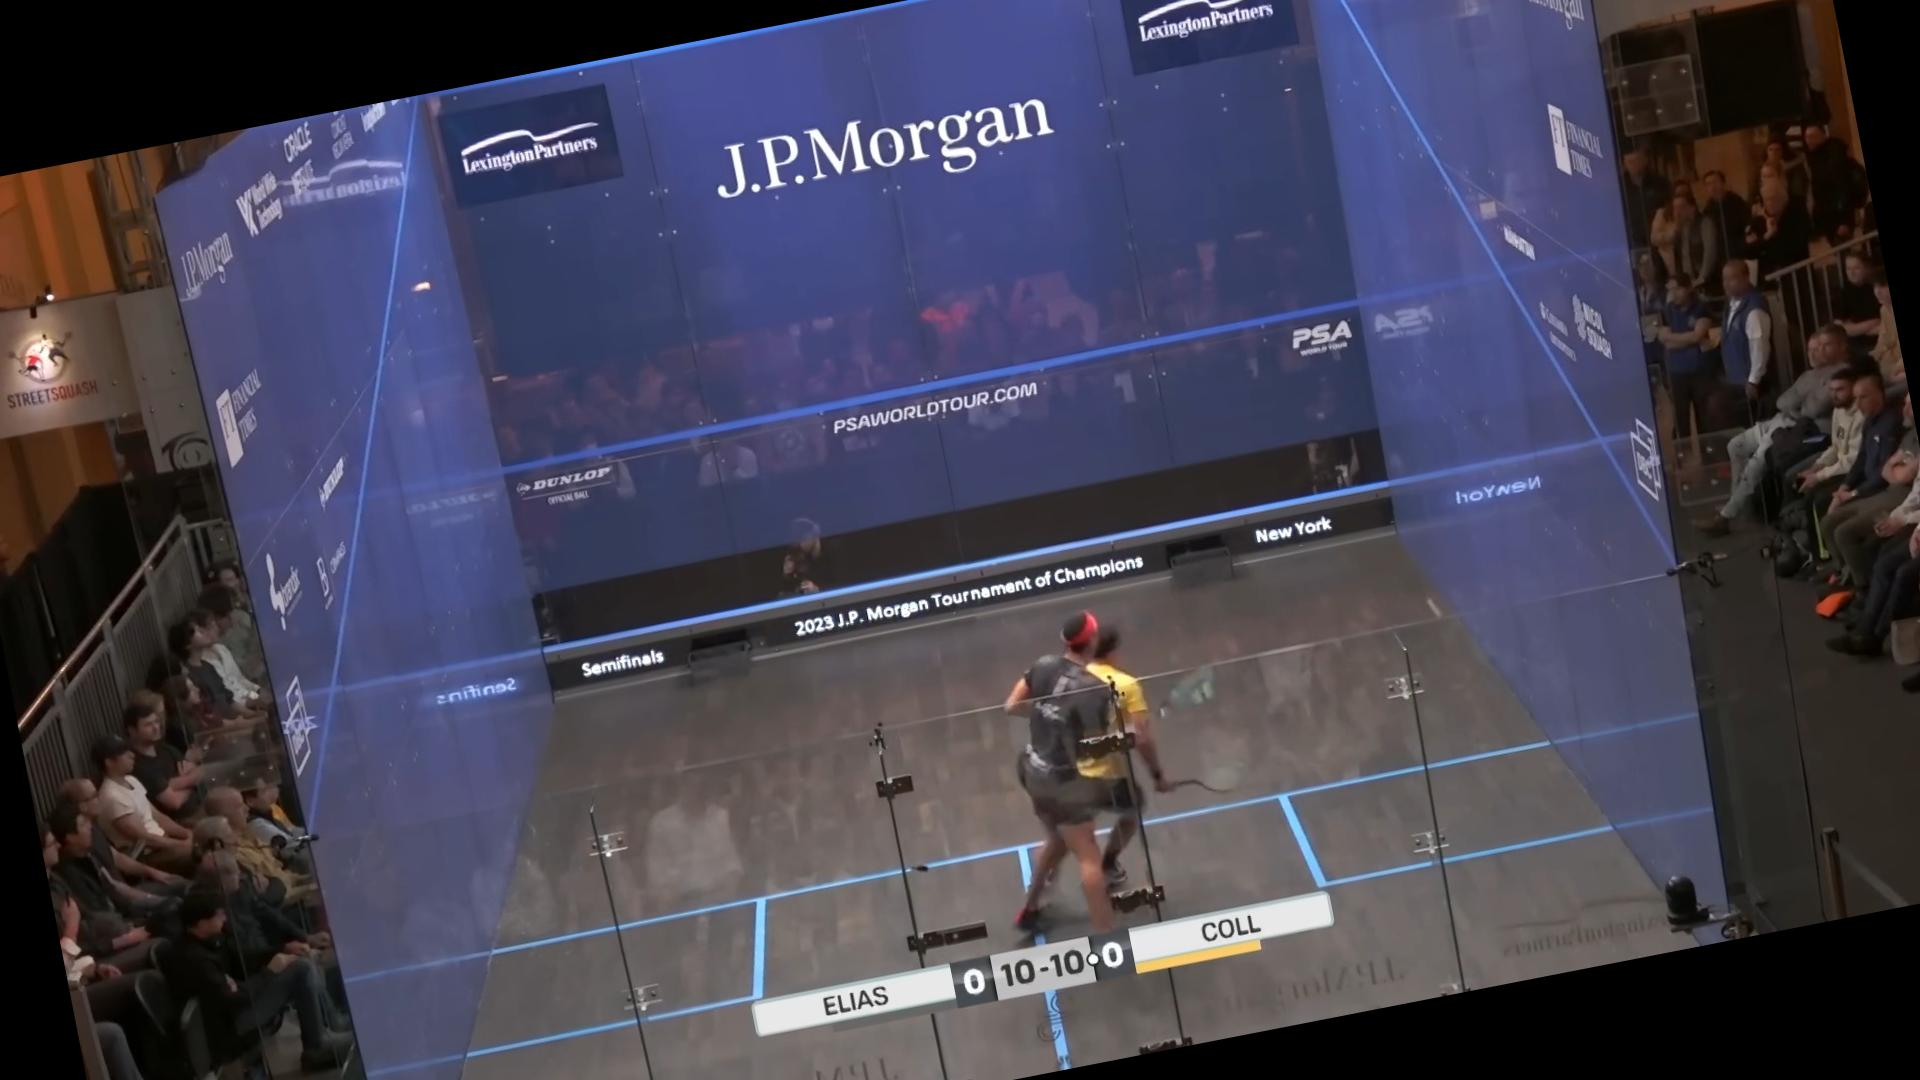Racket: (1135, 649, 1234, 729), (1168, 735, 1263, 811)
